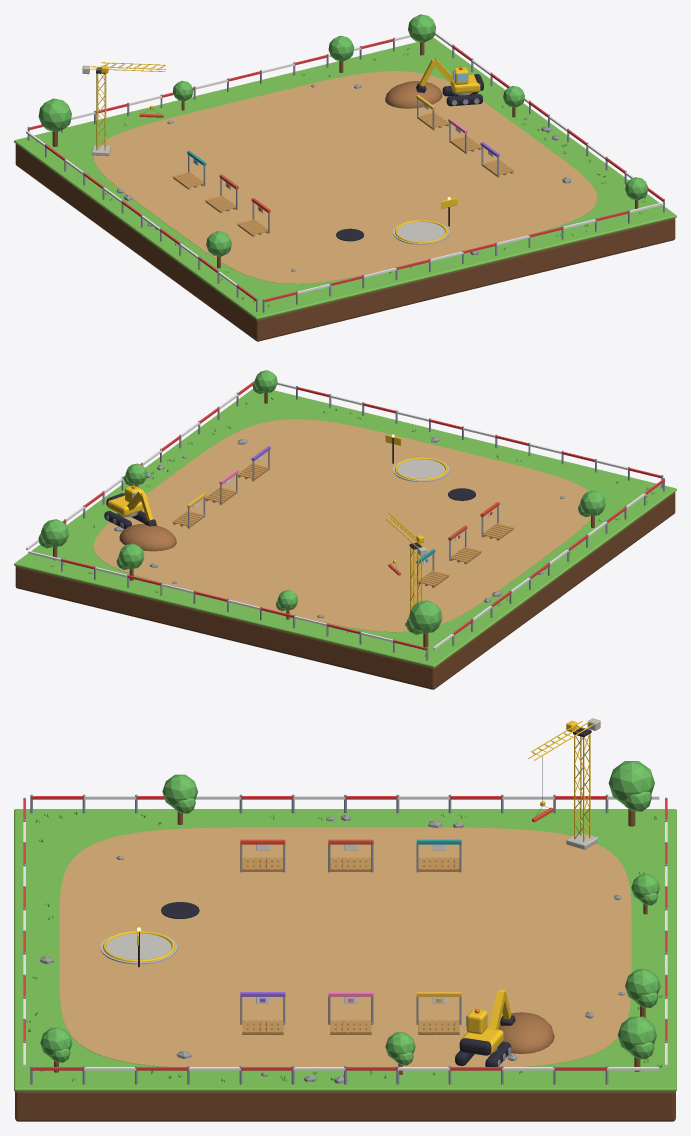
The model's file is lot.4a4f616d.glb.
3 renders of one model, top to bottom at view 1: azimuth 30°, elevation 25°; view 2: azimuth 150°, elevation 25°; view 3: azimuth 270°, elevation 25°, orthographic. The views are drawn at different scales.
Visible parts, largest first — view 1: Lot__T_dirt, Lot__T_grass, Lot__T_earth, Lot__T_leaf, Lot__T_yellow, Lot__T_white, Lot__T_red, Lot__T_steel, Lot__T_wood, Lot__T_concrete, Lot__T_mound, Lot__T_dark; view 2: Lot__T_dirt, Lot__T_grass, Lot__T_earth, Lot__T_leaf, Lot__T_white, Lot__T_red, Lot__T_yellow, Lot__T_steel, Lot__T_wood, Lot__T_mound, Lot__T_concrete, Lot__T_dark; view 3: Lot__T_dirt, Lot__T_grass, Lot__T_earth, Lot__T_leaf, Lot__T_wood, Lot__T_yellow, Lot__T_white, Lot__T_red, Lot__T_steel, Lot__T_concrete, Lot__T_dark, Lot__T_mound (+1 smaller).
Part boxes in pixels (x1,y1,x2,y2): Lot__T_dirt: (93, 71, 597, 283); Lot__T_grass: (14, 38, 676, 319); Lot__T_earth: (15, 144, 675, 341); Lot__T_leaf: (38, 14, 648, 256); Lot__T_yellow: (82, 58, 480, 242); Lot__T_white: (26, 32, 662, 293); Lot__T_red: (29, 39, 663, 302); Lot__T_steel: (27, 37, 664, 312); Lot__T_wood: (172, 112, 514, 236); Lot__T_concrete: (82, 65, 449, 244); Lot__T_mound: (385, 81, 442, 108); Lot__T_dark: (96, 67, 483, 241); Lot__T_dirt: (93, 419, 590, 632); Lot__T_grass: (14, 389, 676, 667); Lot__T_earth: (15, 492, 675, 689); Lot__T_leaf: (38, 370, 605, 634); Lot__T_white: (26, 382, 645, 649); Lot__T_red: (61, 381, 664, 650); Lot__T_yellow: (107, 435, 447, 612); Lot__T_steel: (61, 386, 664, 660); Lot__T_wood: (172, 463, 514, 587); Lot__T_mound: (119, 523, 176, 551); Lot__T_concrete: (393, 457, 449, 626); Lot__T_dark: (104, 437, 475, 567); Lot__T_dirt: (59, 827, 631, 1066); Lot__T_grass: (14, 809, 676, 1091); Lot__T_earth: (15, 1091, 675, 1121); Lot__T_leaf: (40, 761, 660, 1065); Lot__T_wood: (242, 857, 459, 1034); Lot__T_yellow: (103, 718, 600, 1054); Lot__T_white: (23, 796, 667, 1070); Lot__T_red: (23, 796, 667, 1070); Lot__T_steel: (23, 794, 667, 1084); Lot__T_concrete: (100, 718, 600, 964); Lot__T_dark: (138, 727, 591, 1066); Lot__T_mound: (498, 1012, 554, 1053).
Size of the model in its own units: 24.08 by 6.32 by 24.08.
